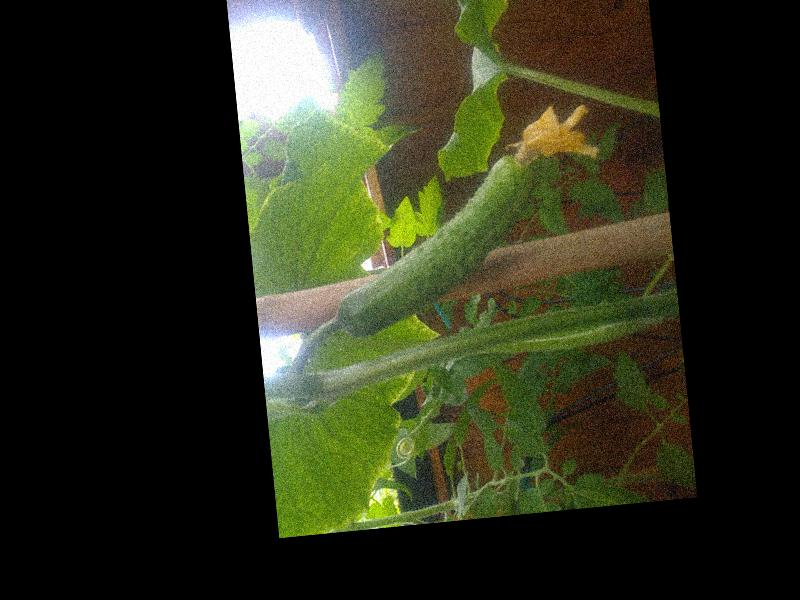Cucumber: (320, 99, 615, 338)
